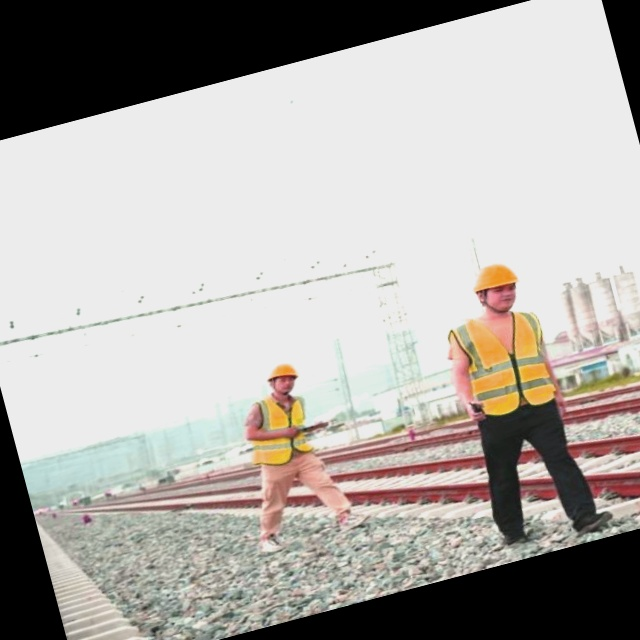Con_Casco: (466, 257, 528, 318), (263, 358, 302, 399)
Con_Chaleco: (448, 301, 565, 423), (243, 390, 319, 467)
